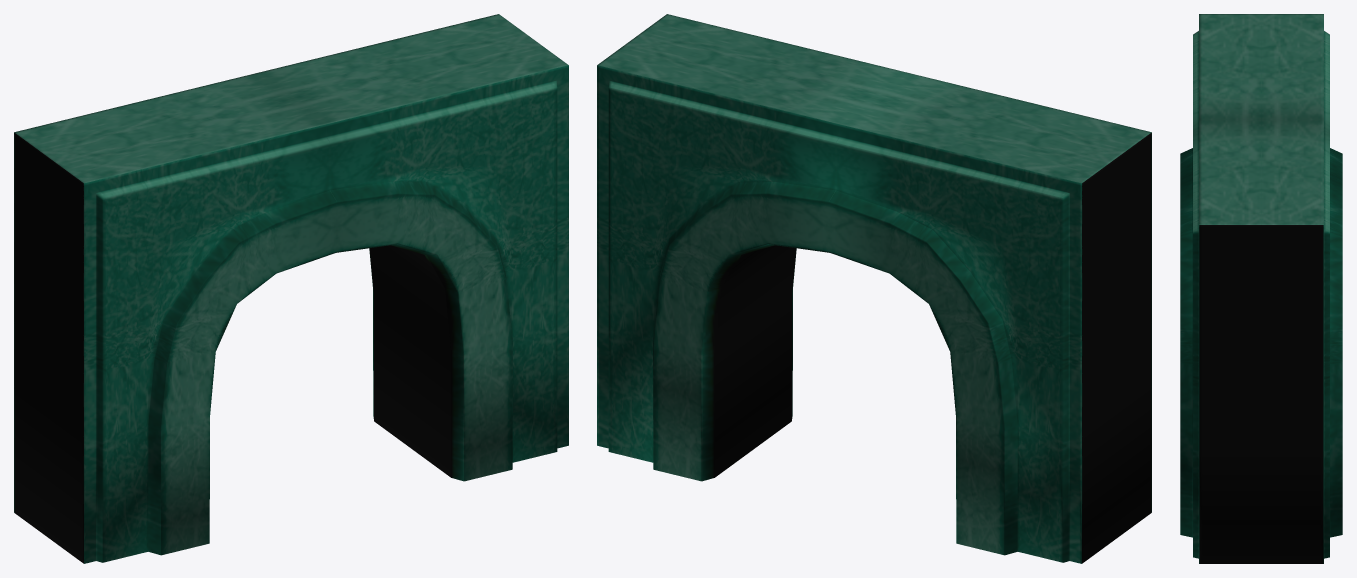
File: arch.glb
3 renders of one model, left to right at view 1: azimuth 30°, elevation 25°; view 2: azimuth 150°, elevation 25°; view 3: azimuth 270°, elevation 25°, orthographic. The views are drawn at different scales.
Visible parts, largest first — view 1: Cube.001; view 2: Cube.001; view 3: Cube.001.
Boxes of the visible parts, <box> form: Cube.001: <box>14,14,568,563</box>; Cube.001: <box>597,14,1151,563</box>; Cube.001: <box>1180,14,1342,563</box>.
Bounding box in the file's own units: 8 × 6 × 2.6.
Materials: 1 (1 with a texture image).
